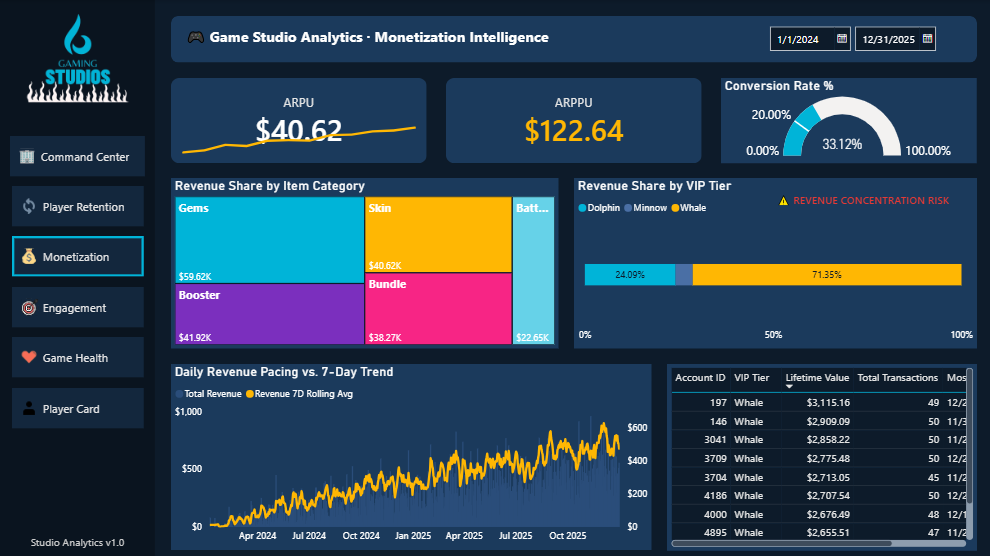

What the dashboard file says about the page in this screenshot:
{"tool":"powerbi","page":{"name":"Monetization","canvas":[1280,720],"ordinal":2},"visuals":[{"type":"shape","box":[0,0,199.8,720],"z":0},{"type":"image","box":[15.6,0,170.1,131.8],"z":1000},{"type":"textbox","box":[0,684.6,199.8,35.4],"z":2000},{"type":"actionButton","box":[12.8,175.7,174.3,52.4],"z":3000},{"type":"actionButton","box":[15.6,240,170.1,52.4],"z":4000},{"type":"actionButton","box":[15.6,305,170.1,52.4],"z":5000},{"type":"actionButton","box":[15.6,370,170.1,52.4],"z":6000},{"type":"actionButton","box":[15.6,435,170.1,52.4],"z":7000},{"type":"actionButton","box":[15.6,500,170.1,52.4],"z":8000},{"type":"shape","box":[220,20,1040,60],"z":9000},{"type":"textbox","box":[235.3,29.8,523,38.3],"z":10000},{"type":"slicer","fields":{"Values":["dim_date.date_key"]},"box":[980,25,260,50],"z":11000},{"type":"cardVisual","fields":{"Data":["_Measures.ARPU"]},"box":[220,100,330,110],"z":12000},{"type":"lineChart","fields":{"Y":["_Measures.Total Revenue"],"Category":["dim_date.date_key.Variation.Date Hierarchy.Month"]},"box":[220.2,150,330.3,60.6],"z":13000},{"type":"cardVisual","fields":{"Data":["_Measures.ARPPU"]},"box":[575,100.5,330.3,110.1],"z":14000},{"type":"gauge","fields":{"Y":["_Measures.Conversion Rate %"]},"box":[930,100,330,110],"z":15000},{"type":"treemap","title":"Revenue Share by Item Category","fields":{"Group":["fact_transactions.item_category"],"Values":["_Measures.Total Revenue"]},"box":[220.2,230,500,220],"z":16000},{"type":"hundredPercentStackedBarChart","title":"Revenue Share by VIP Tier","fields":{"Series":["dim_players.player_segment"],"Y":["_Measures.Total Revenue"]},"box":[740,230,520,220],"z":17000},{"type":"cardVisual","fields":{"Data":["_Measures.Whale Risk Warning"]},"box":[973.1,229.8,287.7,52.3],"z":18000},{"type":"lineStackedColumnComboChart","title":"Daily Revenue Pacing vs. 7-Day Trend","fields":{"Y":["_Measures.Total Revenue"],"Y2":["_Measures.Revenue 7D Rolling Avg"],"Category":["dim_date.date_key"]},"box":[220,470,620,240],"z":19000},{"type":"tableEx","fields":{"Values":["dim_players.player_id","dim_players.player_segment","_Measures.Total Revenue","_Measures.Purchase Count","_Measures.Last Purchase Date"]},"box":[860,469.3,400,240.9],"z":20000}]}

Visuals, with their boxes in screenshot pixels (x1, y1, x2, y2), scaled from the page's 1280x720 canvas onto the 990x556 screenshot:
shape: [left=0, top=0, right=155, bottom=555]
image: [left=12, top=0, right=144, bottom=102]
textbox: [left=0, top=529, right=155, bottom=555]
actionButton: [left=10, top=136, right=145, bottom=176]
actionButton: [left=12, top=185, right=144, bottom=226]
actionButton: [left=12, top=236, right=144, bottom=276]
actionButton: [left=12, top=286, right=144, bottom=326]
actionButton: [left=12, top=336, right=144, bottom=376]
actionButton: [left=12, top=386, right=144, bottom=427]
shape: [left=170, top=15, right=975, bottom=62]
textbox: [left=182, top=23, right=586, bottom=53]
slicer - dim_date.date_key: [left=758, top=19, right=959, bottom=58]
cardVisual - _Measures.ARPU: [left=170, top=77, right=425, bottom=162]
lineChart - _Measures.Total Revenue x dim_date.date_key.Variation.Date Hierarchy.Month: [left=170, top=116, right=426, bottom=163]
cardVisual - _Measures.ARPPU: [left=445, top=78, right=700, bottom=163]
gauge - _Measures.Conversion Rate %: [left=719, top=77, right=975, bottom=162]
"Revenue Share by Item Category" treemap: [left=170, top=178, right=557, bottom=348]
"Revenue Share by VIP Tier" hundredPercentStackedBarChart: [left=572, top=178, right=975, bottom=348]
cardVisual - _Measures.Whale Risk Warning: [left=753, top=177, right=975, bottom=218]
"Daily Revenue Pacing vs. 7-Day Trend" lineStackedColumnComboChart: [left=170, top=363, right=650, bottom=548]
tableEx - dim_players.player_id x dim_players.player_segment: [left=665, top=362, right=975, bottom=548]
